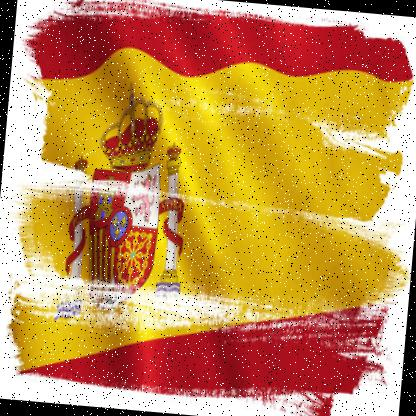es: (10, 4, 413, 416)
